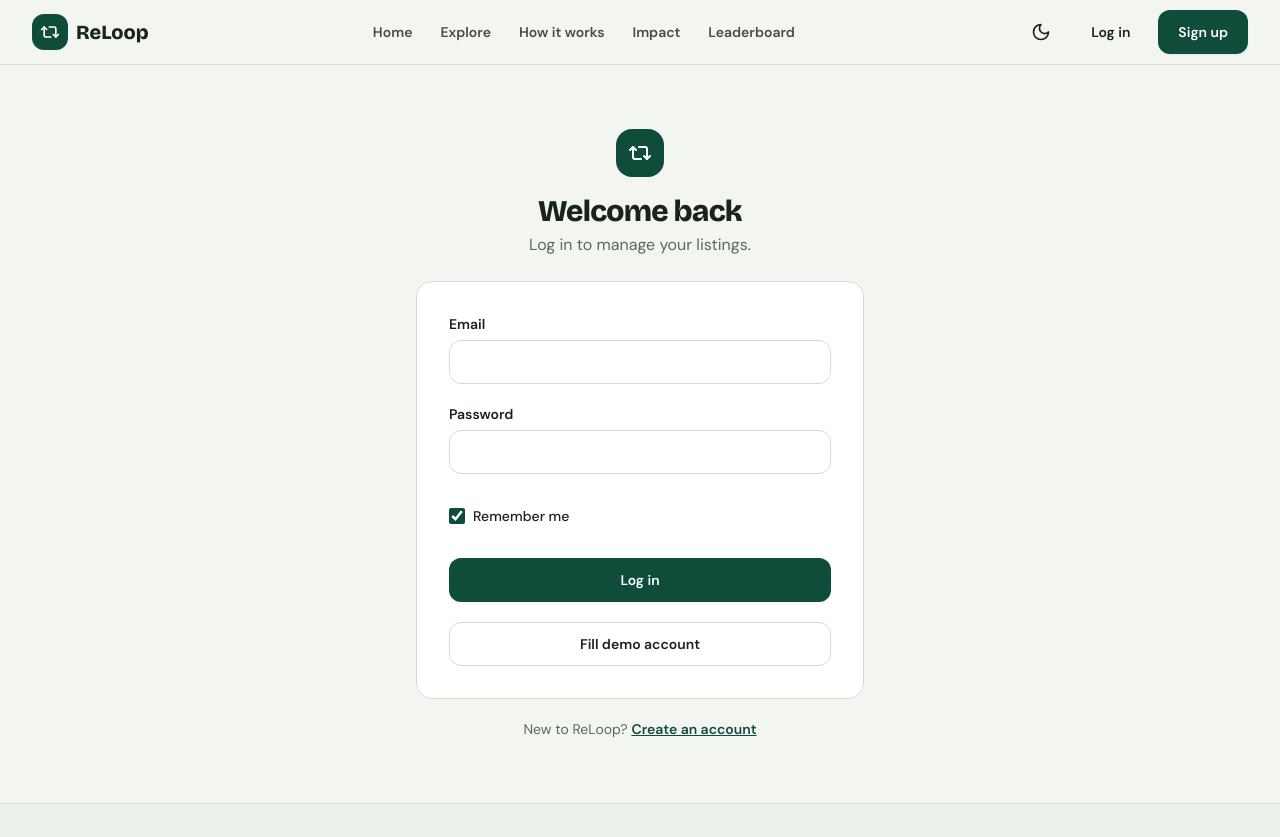
Test: Login validation › logs in with the demo account and opens the dashboard
Type "demo@reloop.edu" into the field labelled "Email".
click(640, 362); type("demo@reloop.edu")  # box 449,340 -> 831,384
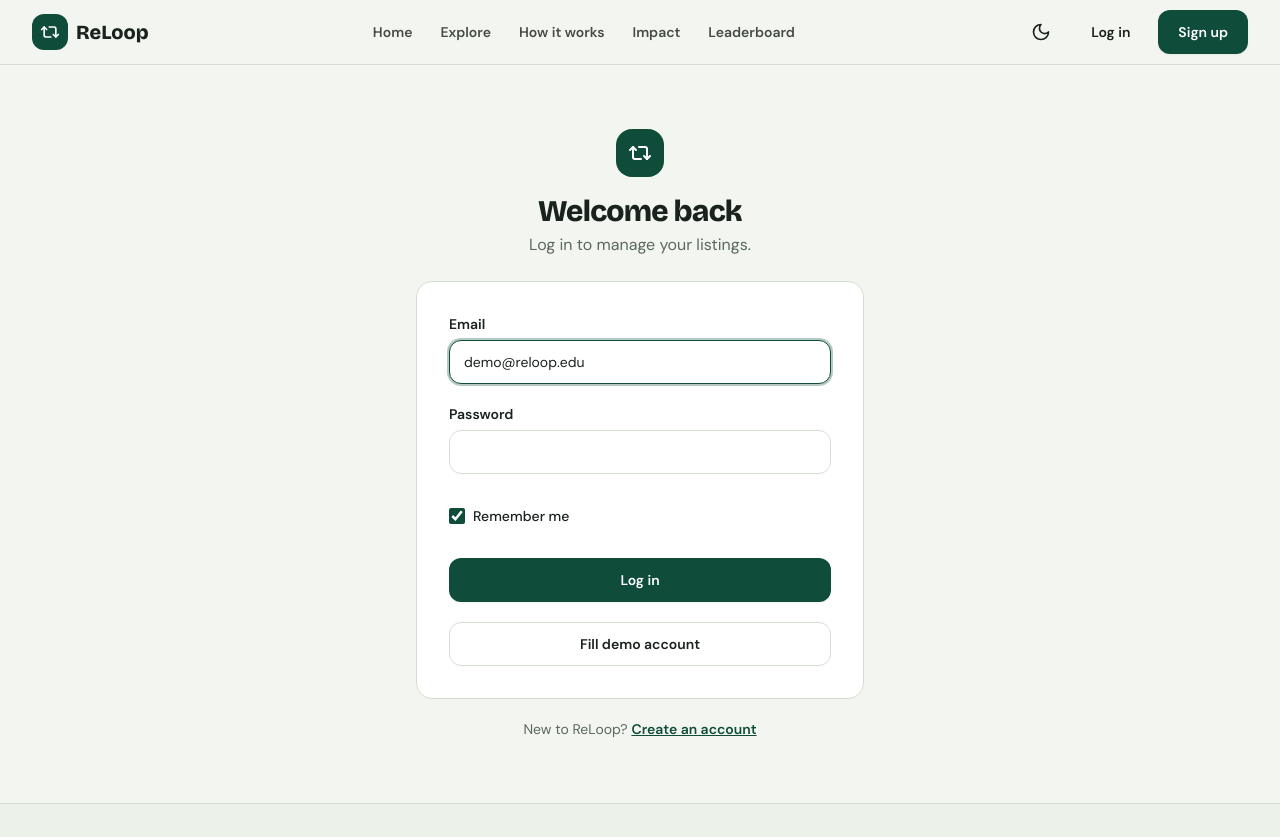
Type "Reloop@123" into the password field labelled "Password".
click(640, 452); type("Reloop@123")  # box 449,430 -> 831,474
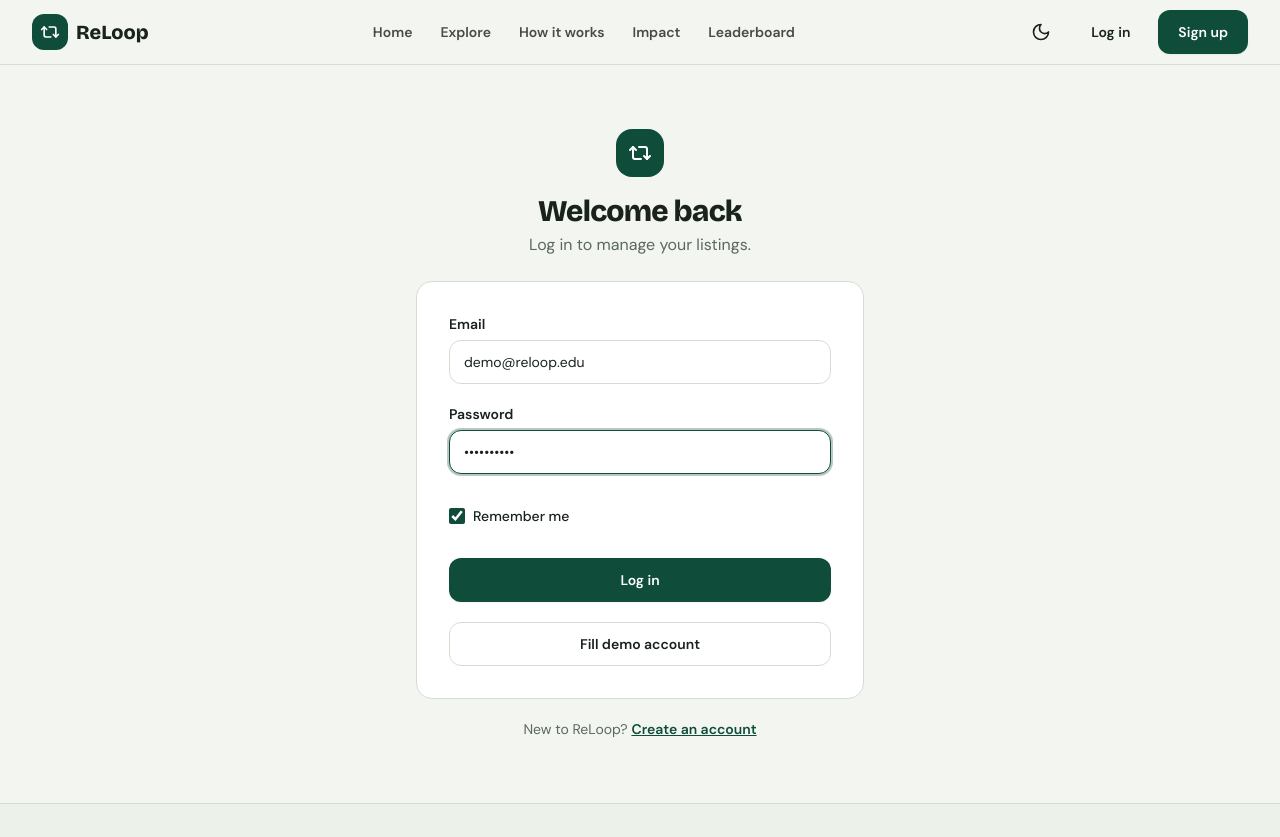
Click the button "Log in".
click(640, 580)  # box 449,558 -> 831,602
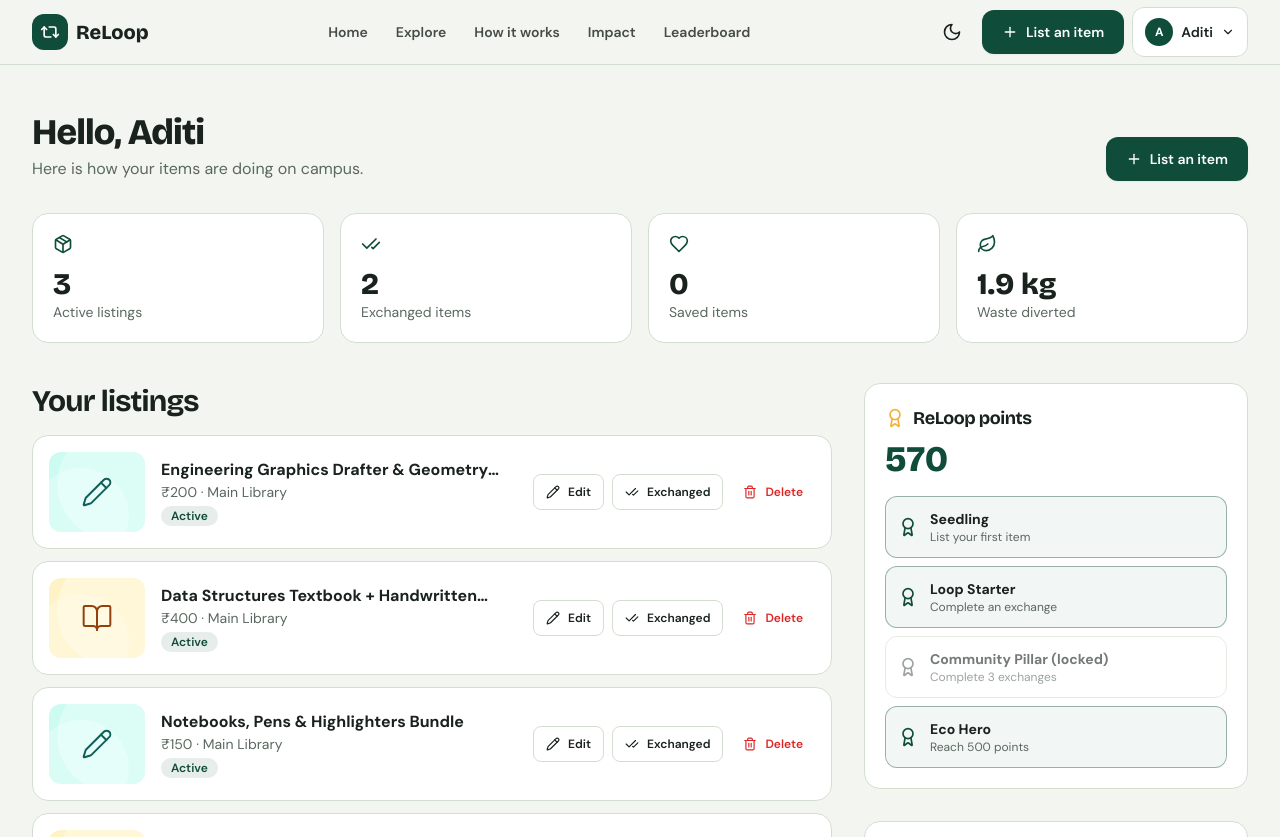
Check: the heading "Hello, Aditi" is shown, box 32,111 -> 204,154
